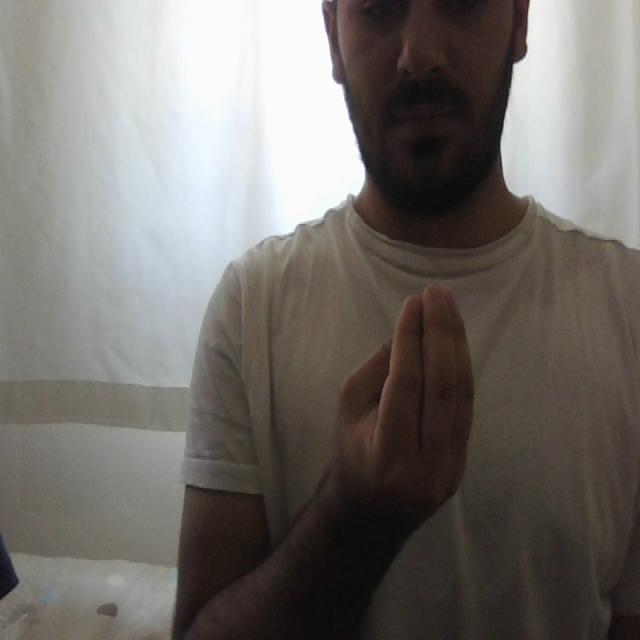iyi: (331, 279, 478, 516)
